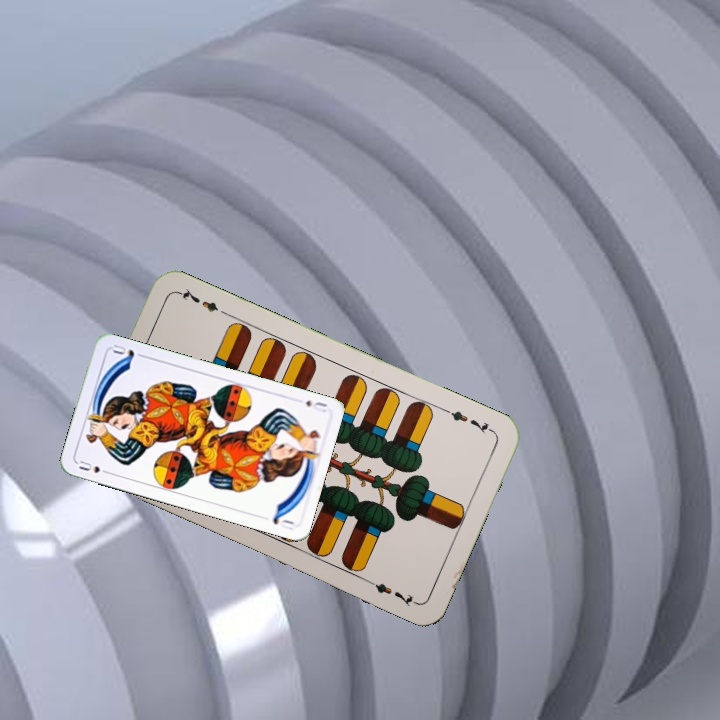E7: (440, 405, 496, 436)
SU: (75, 456, 114, 477), (302, 396, 329, 412)
